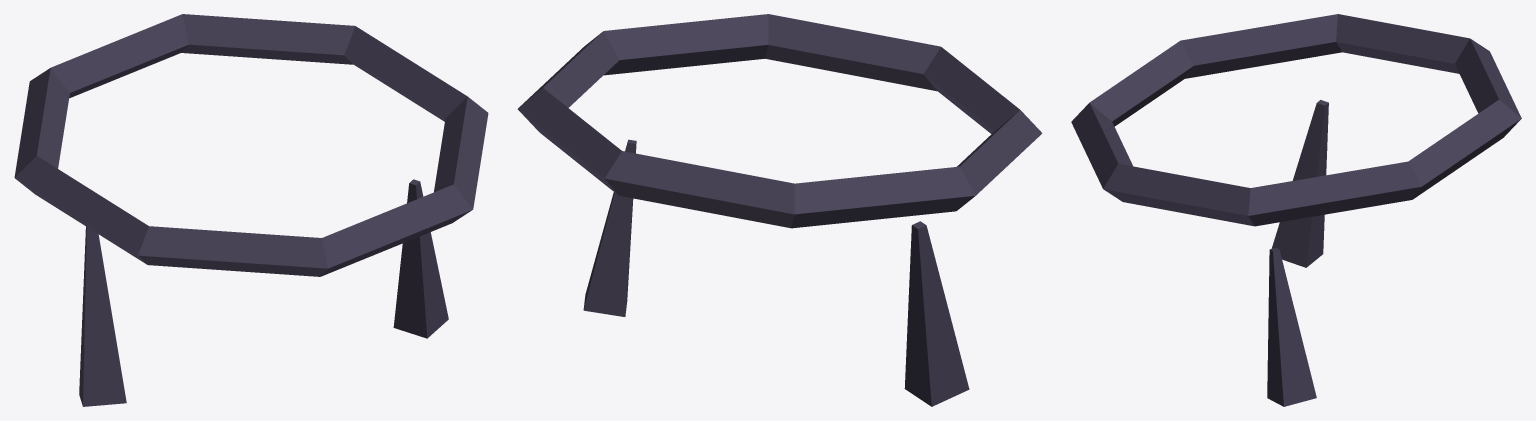
File: TC_ENV_DistantSilhouette_AlienArc_V1.glb
The picture shows the model from 3 angles, left to right: view 1: azimuth 30°, elevation 25°; view 2: azimuth 150°, elevation 25°; view 3: azimuth 270°, elevation 25°; orthographic projection. The views are drawn at different scales.
Parts seen in each view (by area): view 1: TC_DistantSilhouette_AlienArc_Ring, TC_DistantSilhouette_AlienArc_SpineA, TC_DistantSilhouette_AlienArc_SpineB; view 2: TC_DistantSilhouette_AlienArc_Ring, TC_DistantSilhouette_AlienArc_SpineA, TC_DistantSilhouette_AlienArc_SpineB; view 3: TC_DistantSilhouette_AlienArc_Ring, TC_DistantSilhouette_AlienArc_SpineB, TC_DistantSilhouette_AlienArc_SpineA.
Boxes of the visible parts, x1,y1,x2,y2 form: TC_DistantSilhouette_AlienArc_Ring: [14, 14, 488, 276]; TC_DistantSilhouette_AlienArc_SpineA: [79, 226, 126, 406]; TC_DistantSilhouette_AlienArc_SpineB: [393, 179, 448, 338]; TC_DistantSilhouette_AlienArc_Ring: [517, 14, 1042, 228]; TC_DistantSilhouette_AlienArc_SpineA: [904, 221, 969, 406]; TC_DistantSilhouette_AlienArc_SpineB: [583, 139, 636, 316]; TC_DistantSilhouette_AlienArc_Ring: [1071, 14, 1521, 226]; TC_DistantSilhouette_AlienArc_SpineB: [1267, 247, 1316, 406]; TC_DistantSilhouette_AlienArc_SpineA: [1271, 100, 1328, 267].
Bounding box in the file's own units: 3.44 × 2.05 × 3.42.
